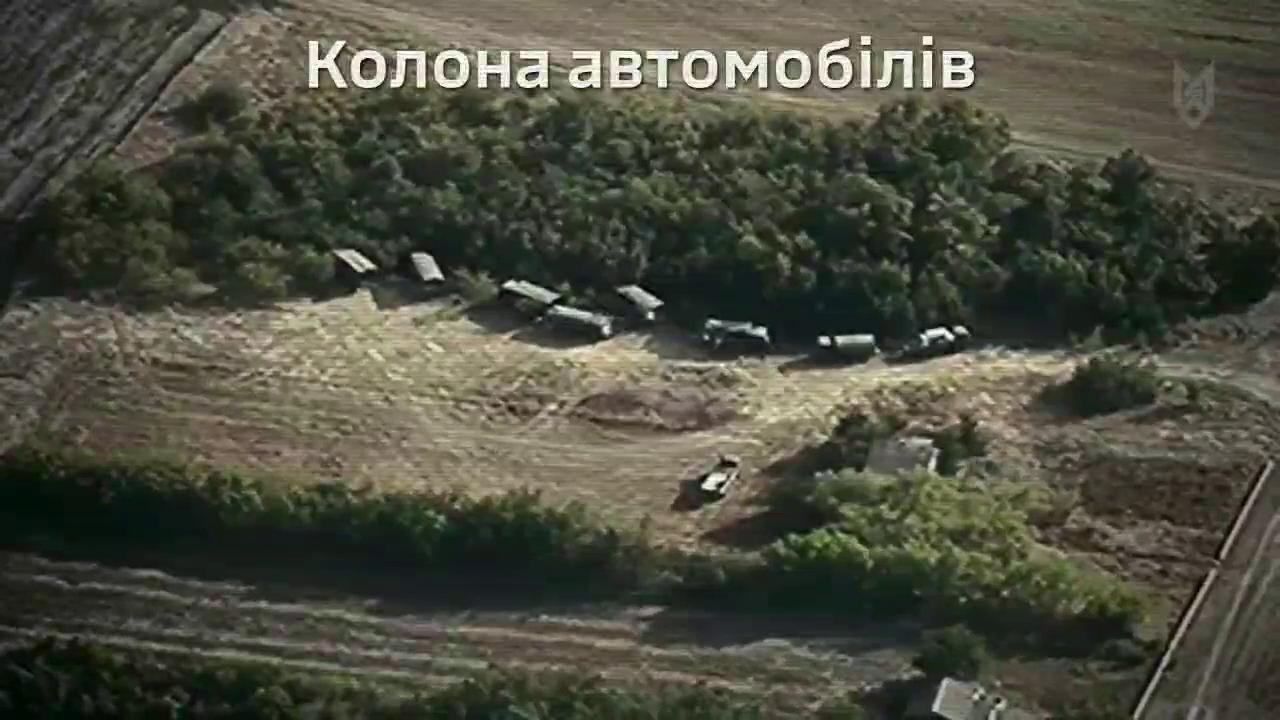tank: (702, 313, 773, 358), (545, 300, 614, 345), (611, 278, 666, 330), (493, 273, 560, 315), (808, 329, 880, 368), (328, 243, 384, 293), (910, 321, 971, 364), (407, 245, 445, 300), (699, 453, 743, 499)
